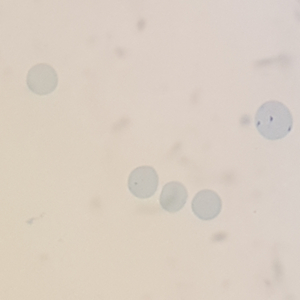aggregate reticulocyte: (252, 99, 295, 142)
erythrocyte: (25, 62, 60, 97), (190, 188, 224, 222), (158, 180, 190, 215)
punctate reticulocyte: (126, 165, 161, 200)
